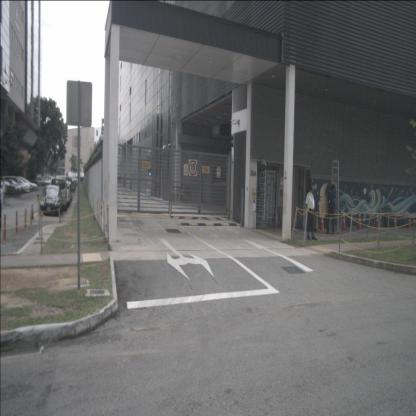cone: (356, 211, 363, 229), (320, 212, 326, 232), (314, 212, 320, 231), (340, 211, 346, 230), (2, 214, 6, 242), (15, 210, 19, 235), (392, 212, 398, 228), (375, 212, 380, 229), (407, 212, 412, 228), (58, 207, 62, 224), (30, 205, 33, 227), (24, 209, 27, 230)
